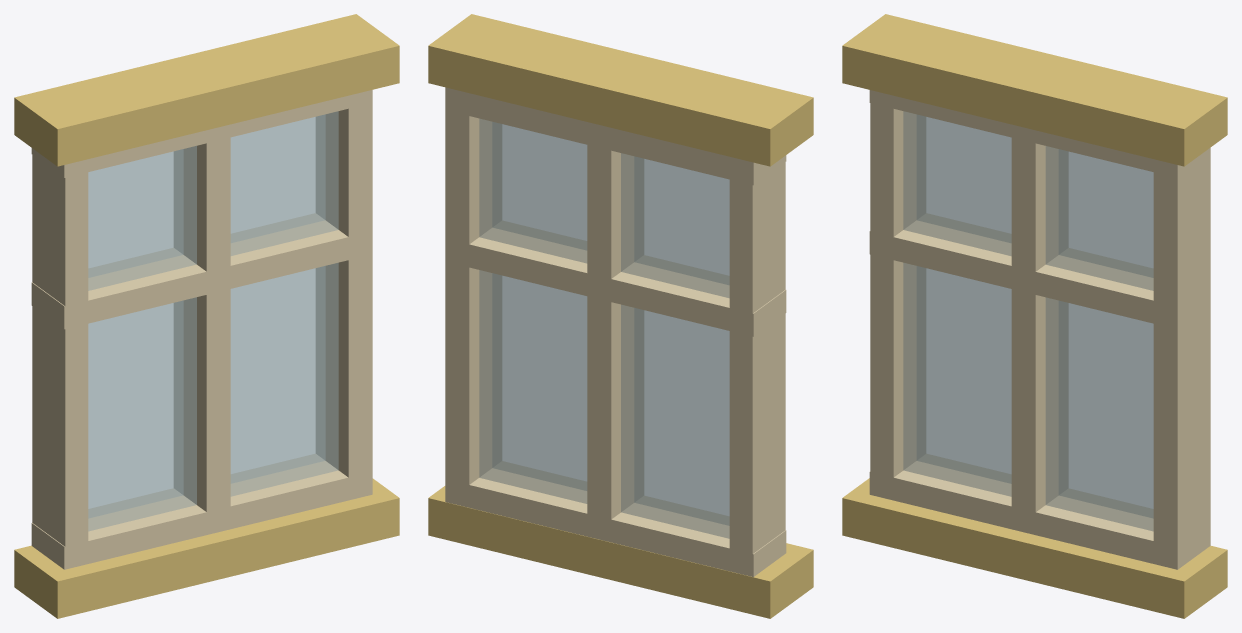
The model's file is pencere 1.3.fbx.
3 renders of one model, left to right at view 1: azimuth 30°, elevation 25°; view 2: azimuth 150°, elevation 25°; view 3: azimuth 330°, elevation 25°, orthographic.
Parts seen in each view (by area): view 1: pCube32; view 2: pCube32; view 3: pCube32.
Part boxes in pixels (x1,y1,x2,y2): pCube32: (14, 14, 399, 618); pCube32: (428, 14, 813, 618); pCube32: (842, 14, 1227, 618).
Bounding box in the file's own units: 627 × 857 × 137.
